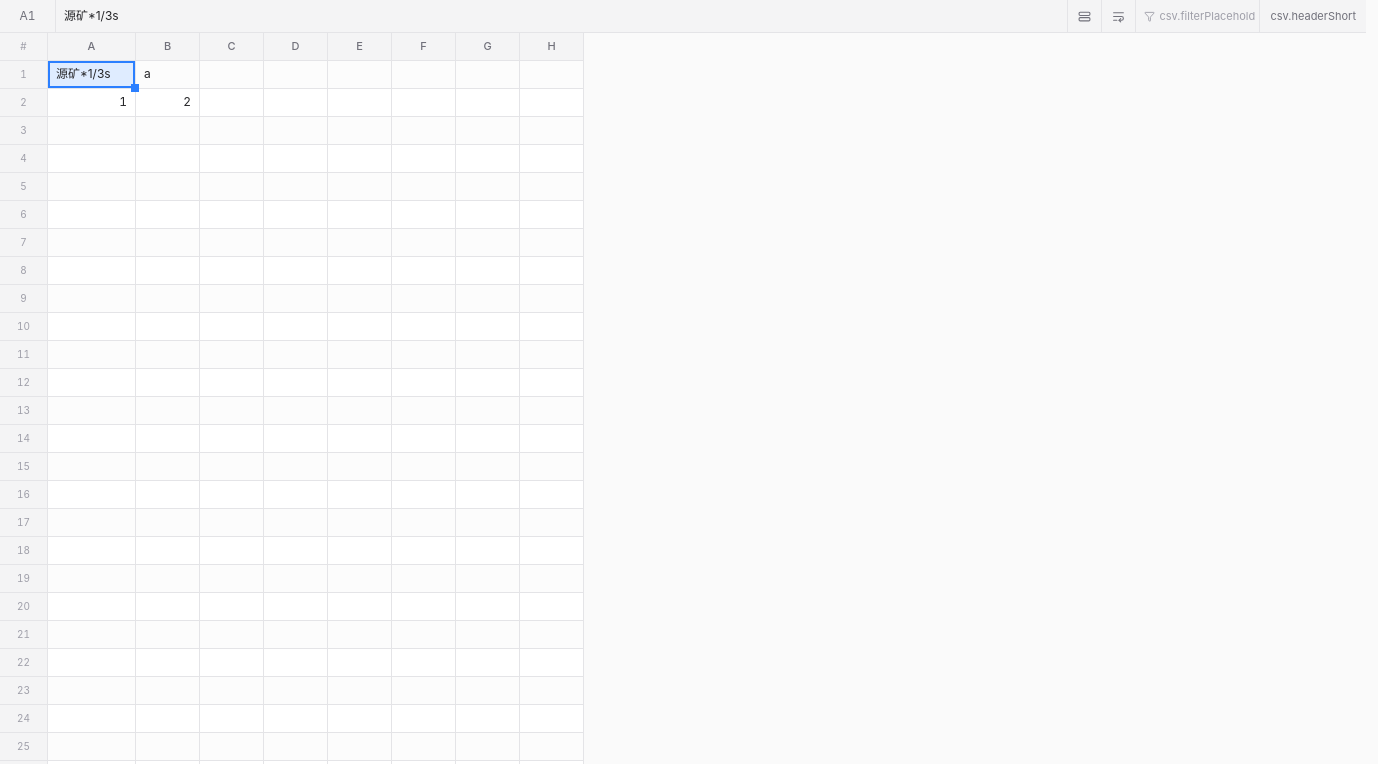
Test: CsvGridEditor 单元格编辑与编辑栏 › 输入法组词中的 Enter 不提交，松开后的 Enter 正常关闭
Double-click the element with test id "csv-cell-0-0": (92, 75) [48, 61, 136, 89]
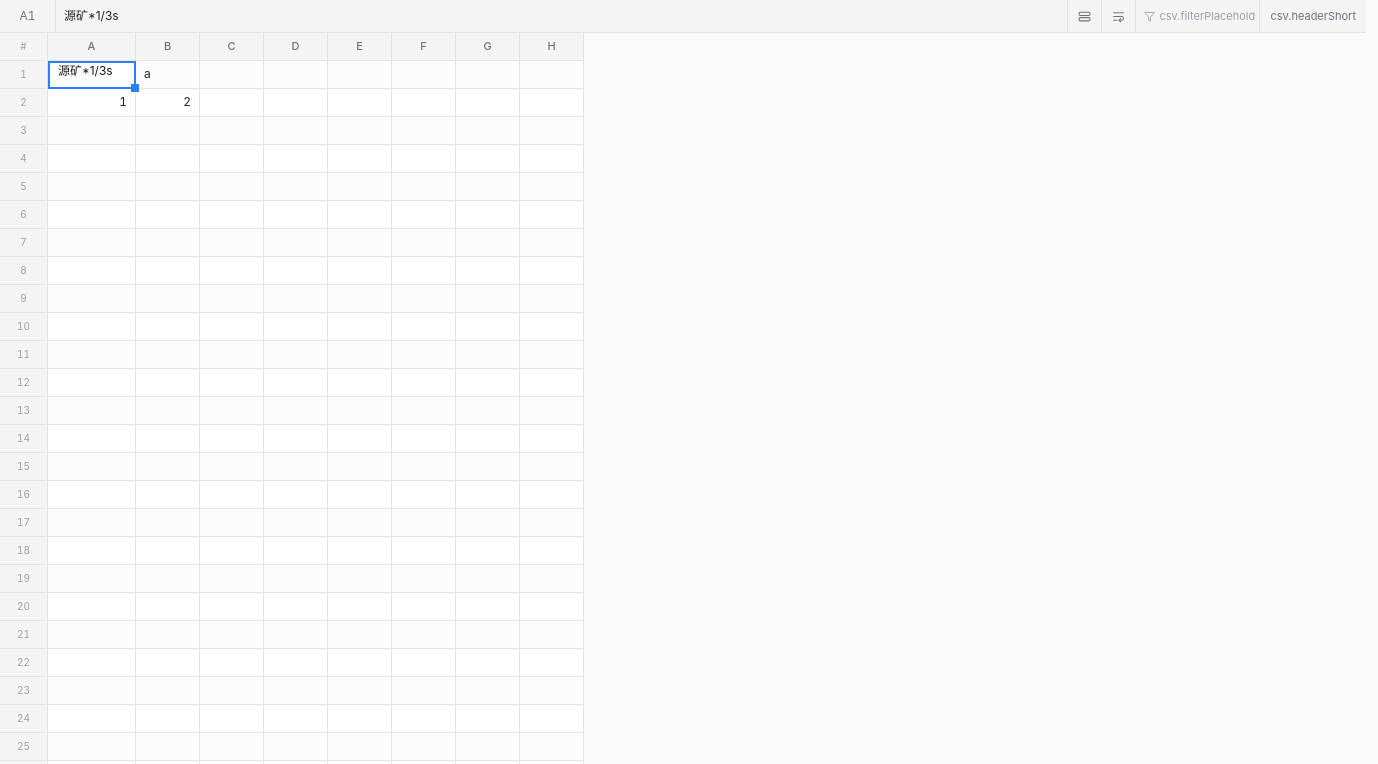
Check: the text box with test id "csv-edit-input" is shown
Press Enter in the text box with test id "csv-edit-input", box [48, 61, 136, 89]
Check: the text box with test id "csv-edit-input" is shown
Press Enter in the text box with test id "csv-edit-input", box [48, 61, 136, 89]
(page scrolled)
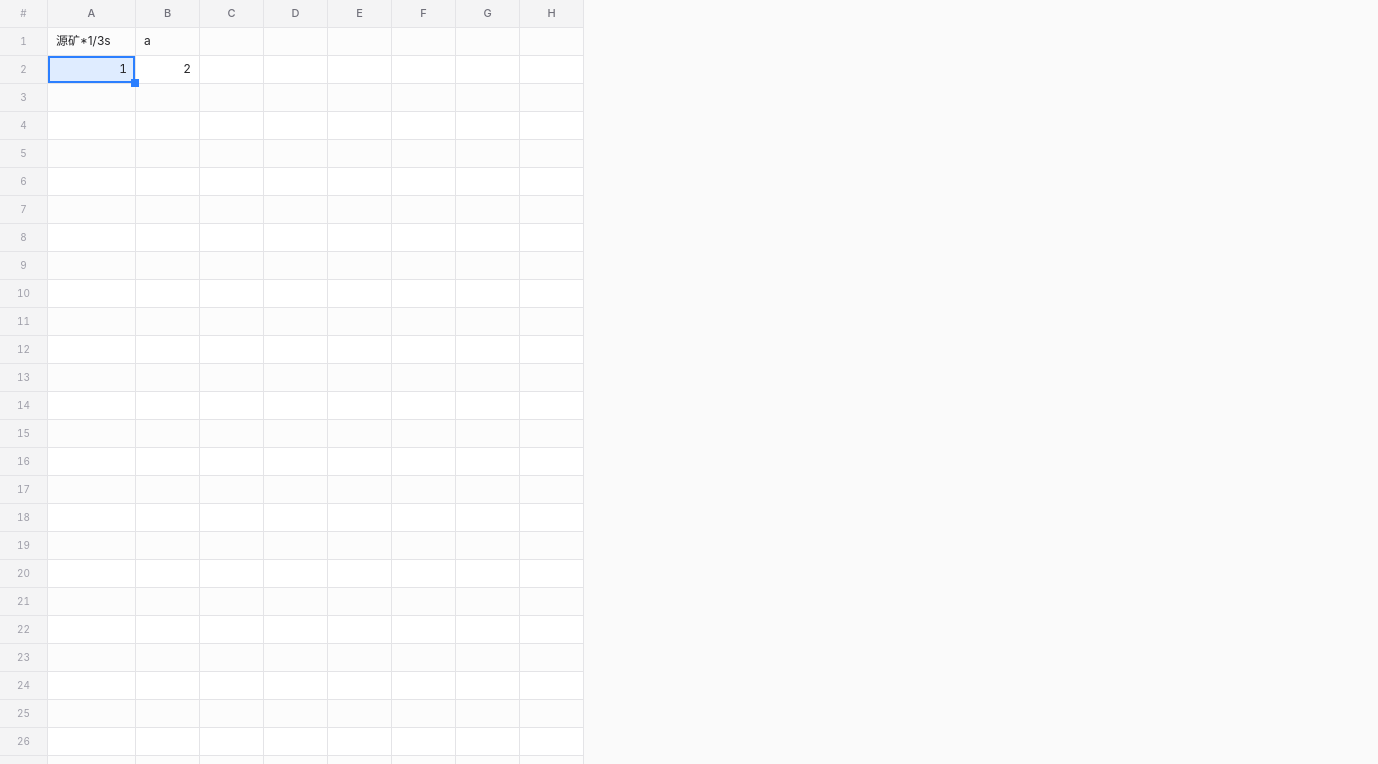
Check: the text box with test id "csv-edit-input" is gone
